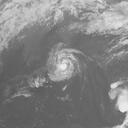cyclone: (48, 46, 80, 82)
